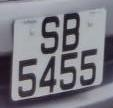4: (37, 51, 61, 99)
5: (14, 53, 40, 101), (59, 50, 80, 95), (78, 45, 98, 92)
B: (59, 10, 82, 52)
S: (39, 11, 62, 57)
